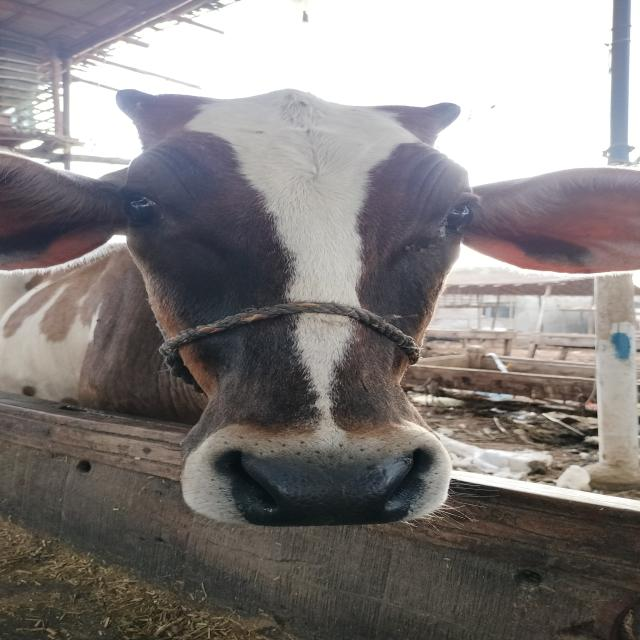muzzles: (202, 432, 446, 534)
